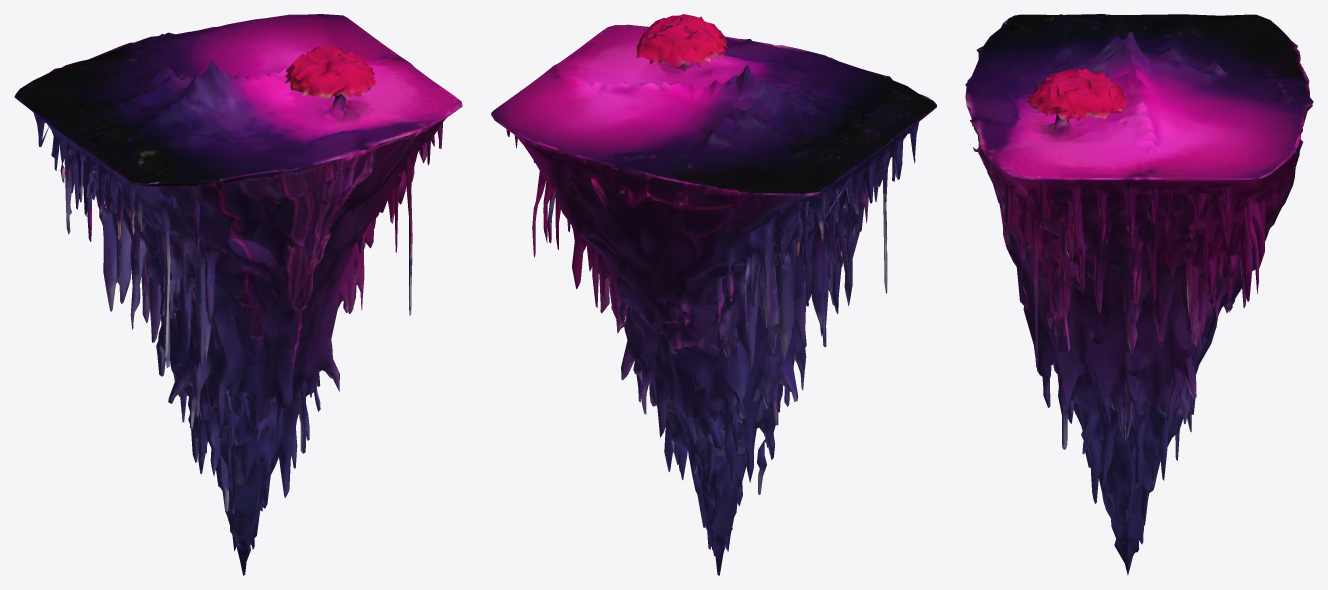
Rendered from sea-root-nw-generated-2026-05-17T19-43-51-539Z.low.glb.
3 views of the same model, side by side, from view 1: azimuth 30°, elevation 25°; view 2: azimuth 150°, elevation 25°; view 3: azimuth 270°, elevation 25° (orthographic). The views are drawn at different scales.
Visible parts, largest first — view 1: temp_mesh.ply; view 2: temp_mesh.ply; view 3: temp_mesh.ply.
Boxes of the visible parts, x1,y1,x2,y2 form: temp_mesh.ply: [14, 14, 462, 575]; temp_mesh.ply: [491, 14, 936, 575]; temp_mesh.ply: [965, 14, 1313, 575].
Bounding box in the file's own units: 1.31 × 1.97 × 1.17.
1 material, 1 textured.
